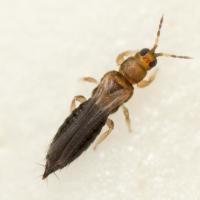Thrips: (12, 6, 192, 183)
